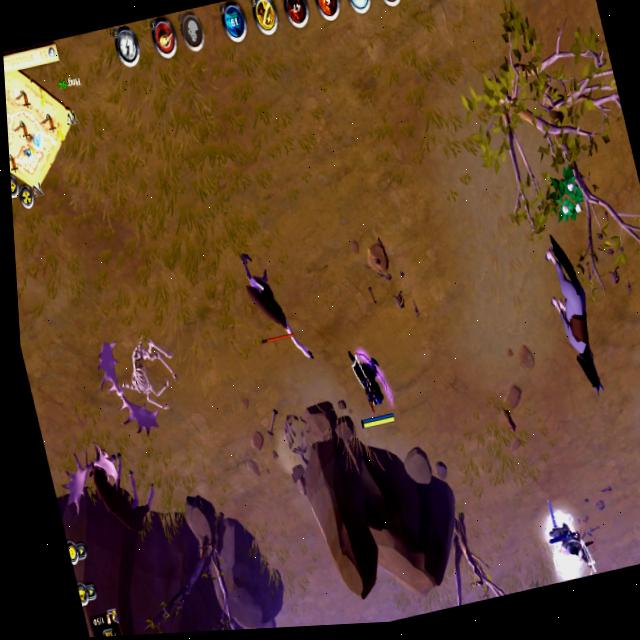hide: (541, 160, 592, 231)
ore: (61, 424, 169, 557), (228, 236, 316, 385)
red: (535, 493, 603, 584), (342, 339, 401, 433)
